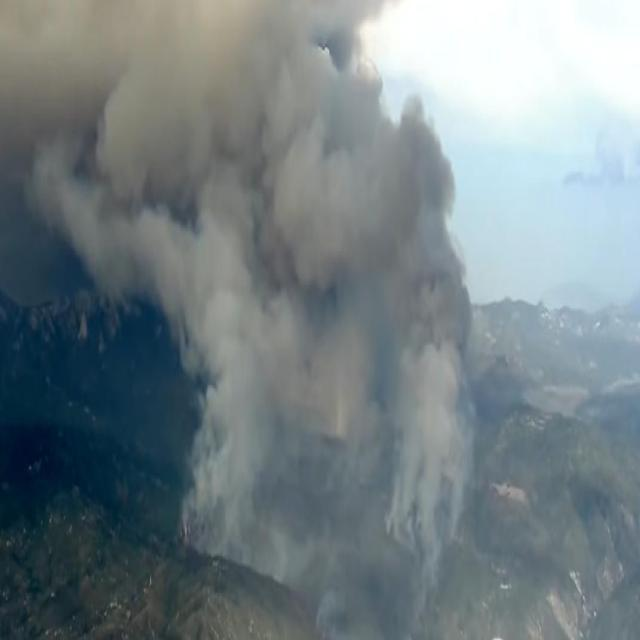Smoke: (5, 4, 475, 588)
